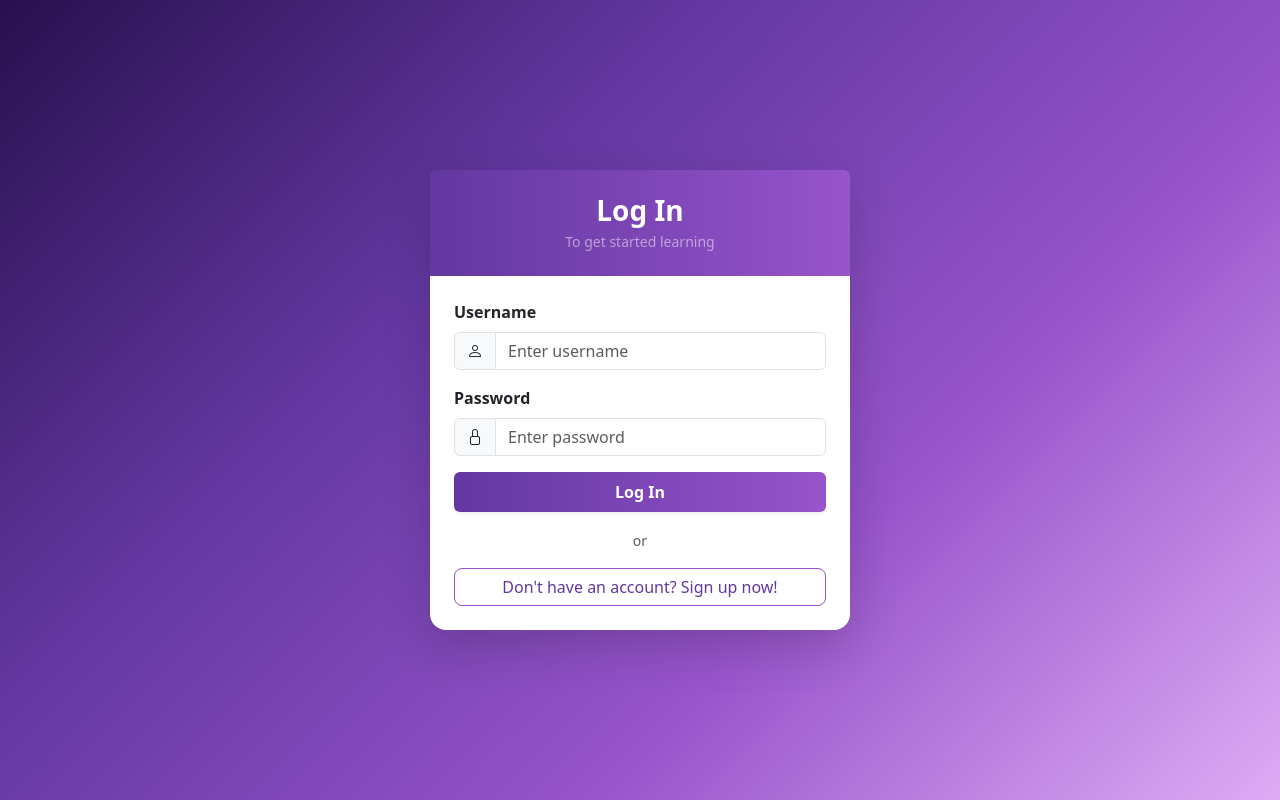
Test: Chat Application - Comprehensive E2E Tests › 1. Authentication Flow › should toggle between login and signup modes
The width and height of the screenshot is (1280, 800).
Click the signup toggle button
What coordinates should you click on to do the following:
click the button "Don't have an account? Sign up now!"
I would click on:
 (640, 587)
Its box is [454,568,826,606].
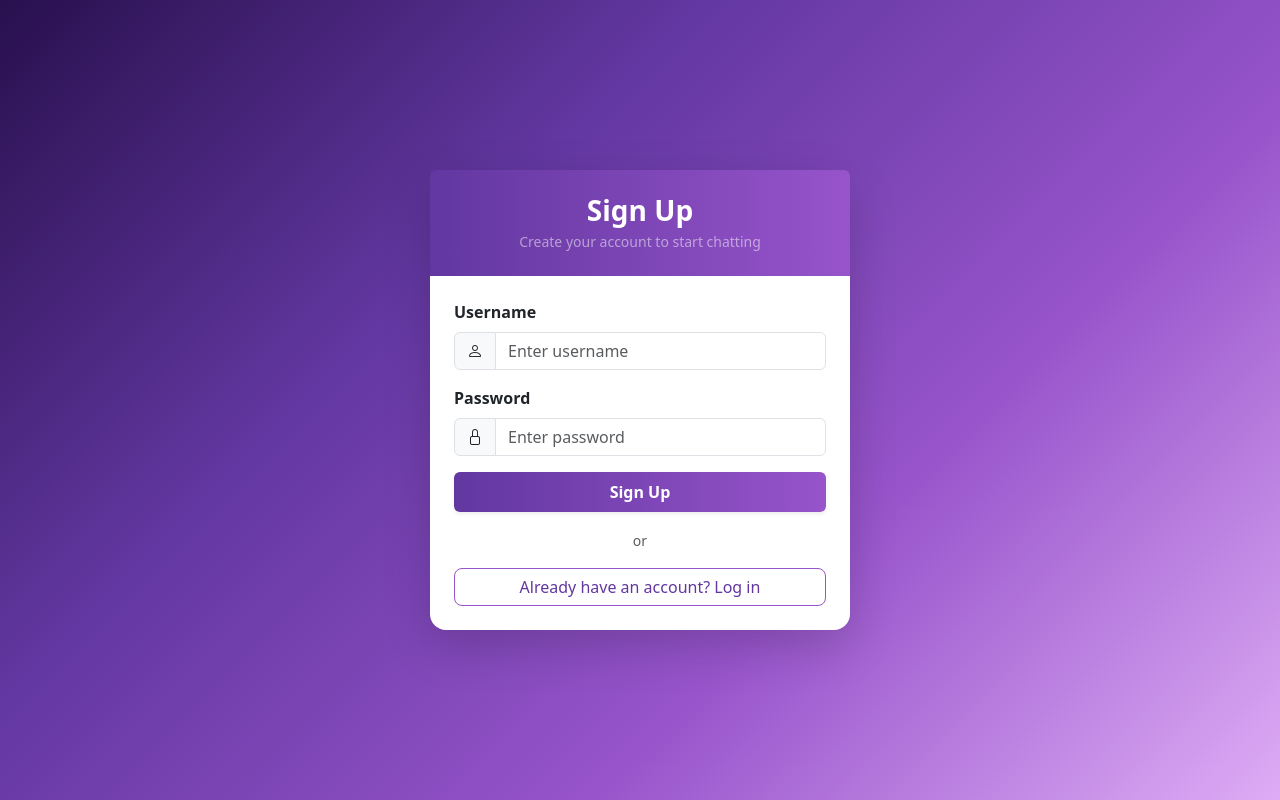
expect the heading "Sign Up" is shown: met, box [587,191,693,229]
Click back to login
What coordinates should you click on to do the following:
click the button "Already have an account? Log in"
I would click on:
 (640, 587)
Its box is [454,568,826,606].
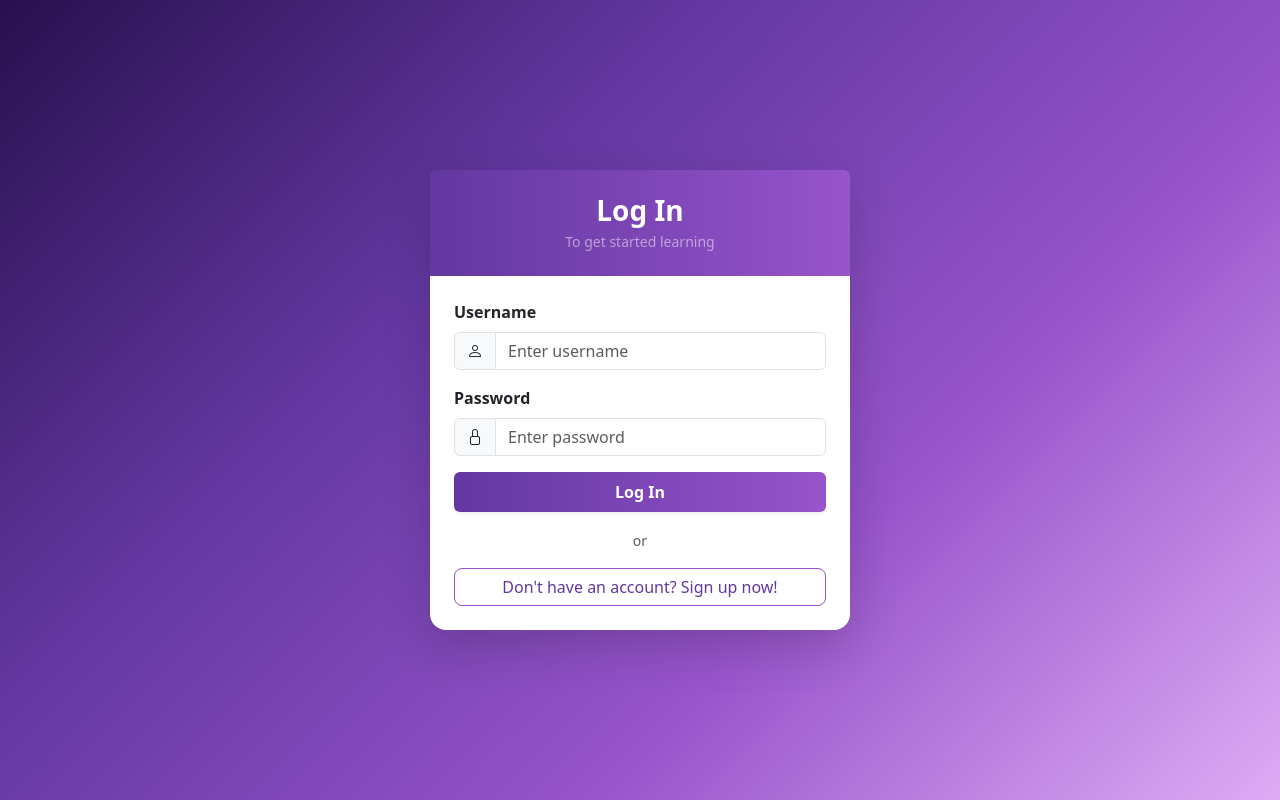
expect the heading "Log In" is shown: met, box [596,191,684,229]
